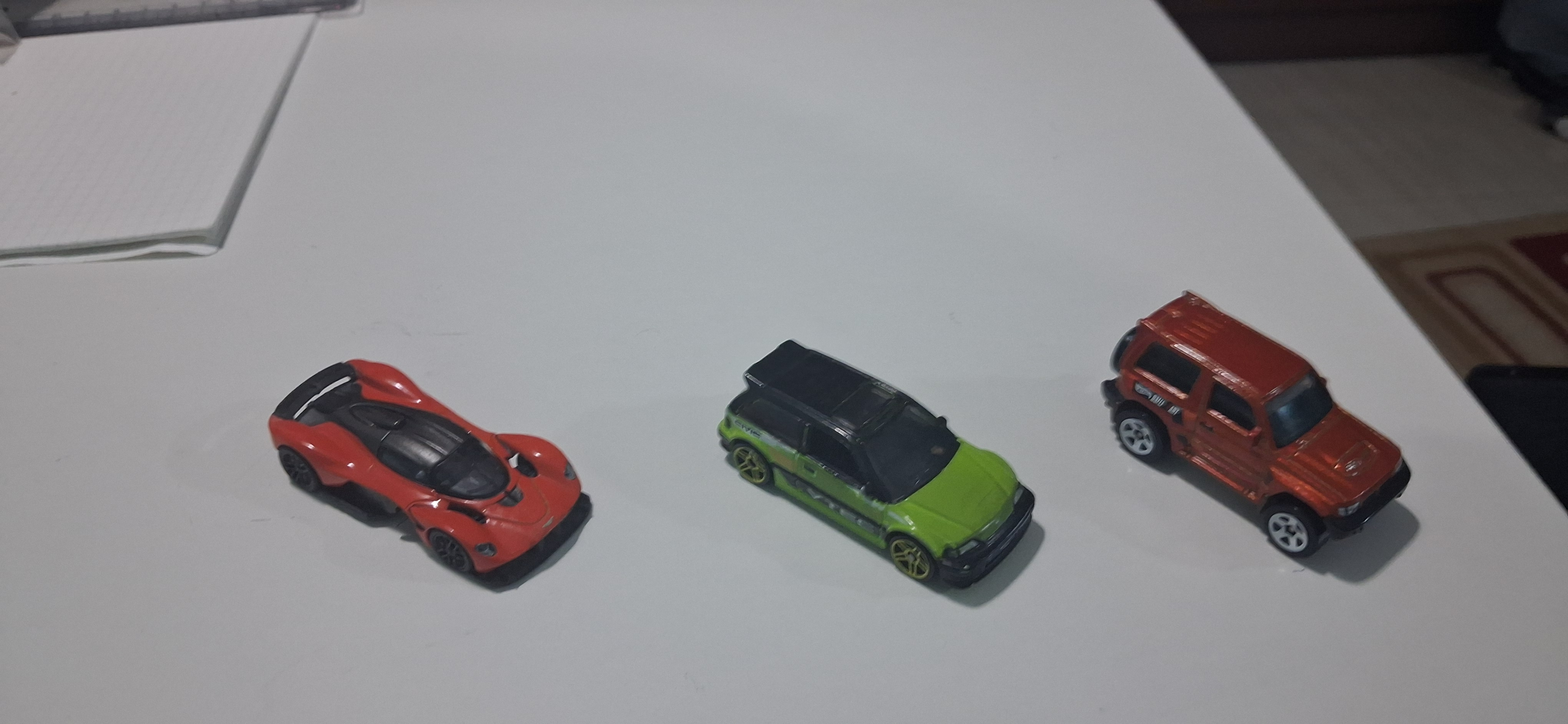Aston_Martin_Valkyrie: (224, 305, 606, 634)
Honda_Civic: (667, 301, 1047, 625)
Mitsubishi_Pajero_Evolution: (1072, 249, 1451, 569)
